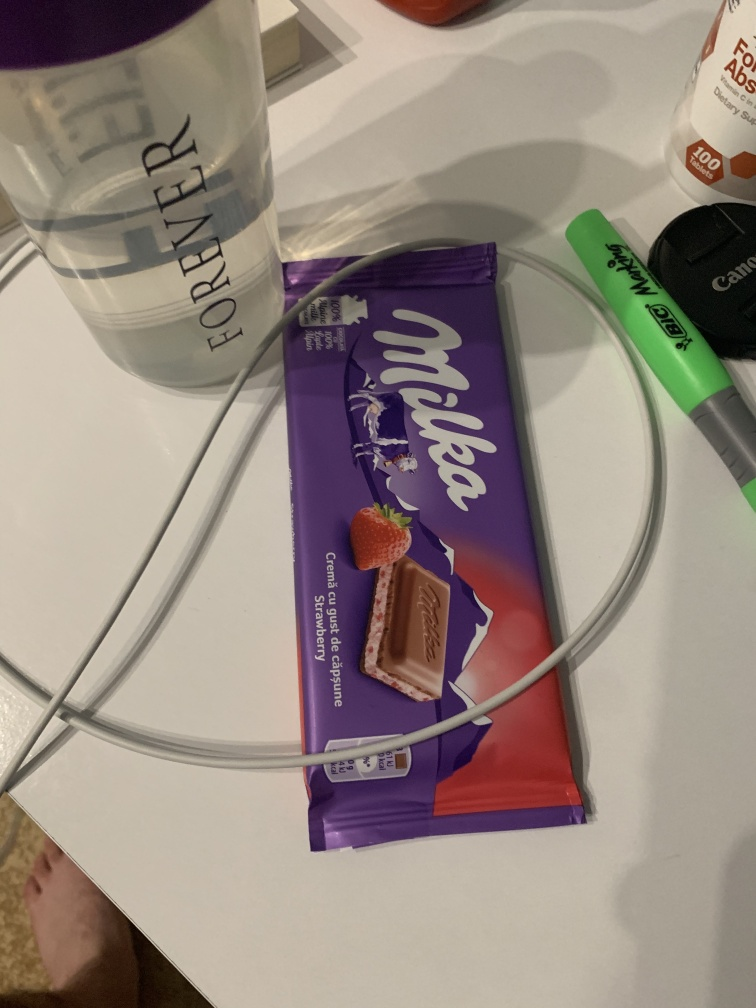milka: (237, 235, 587, 886)
